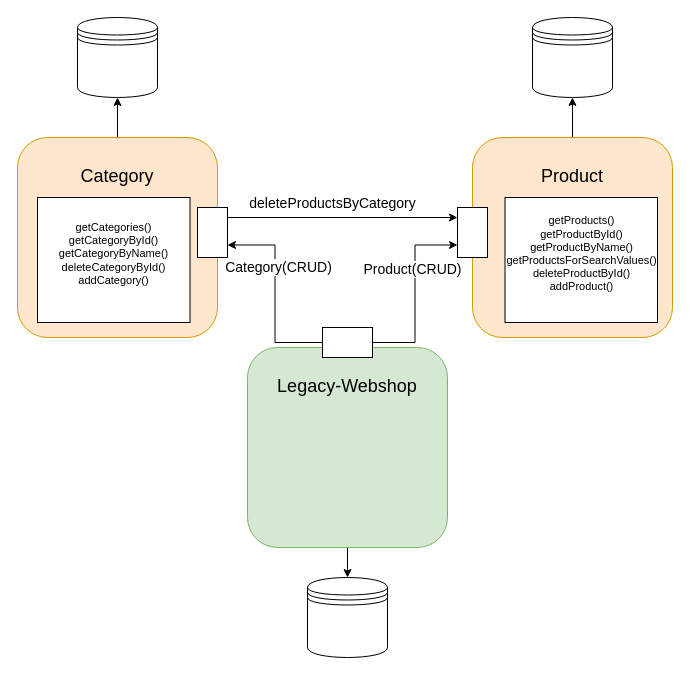
The diagram is 690 pixels wide and 675 high, and some of its shapes have lost their labels. Here are the shapes that lost their labels. From the top down, the box of each, then its label:
(76, 16, 158, 98): CategoryDB
(532, 16, 612, 98): ProductDB
(306, 576, 388, 658): WebshopDB
